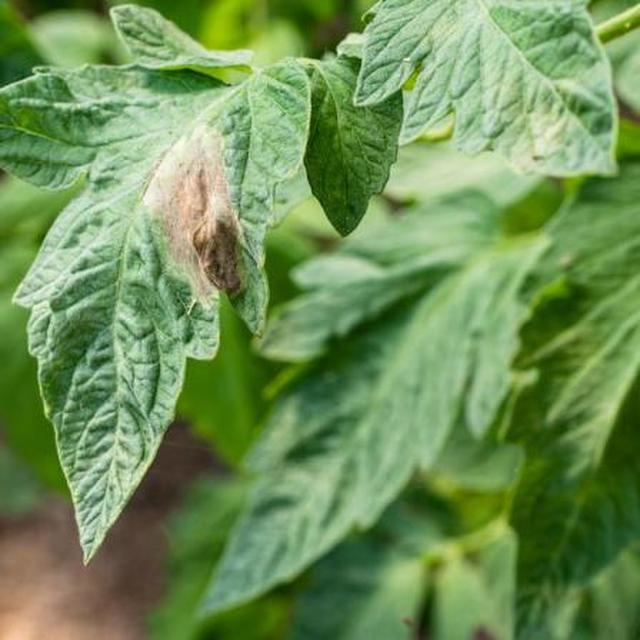Late Blight Leaf: (228, 130, 640, 640)
